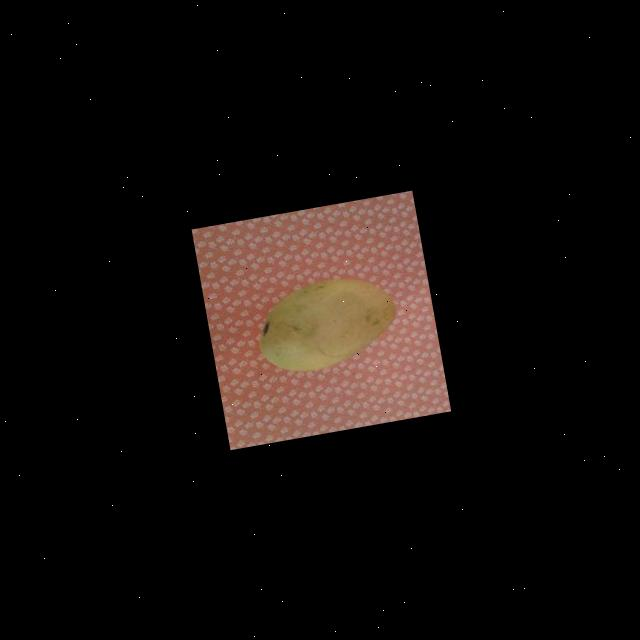Mango: (249, 267, 404, 378)
